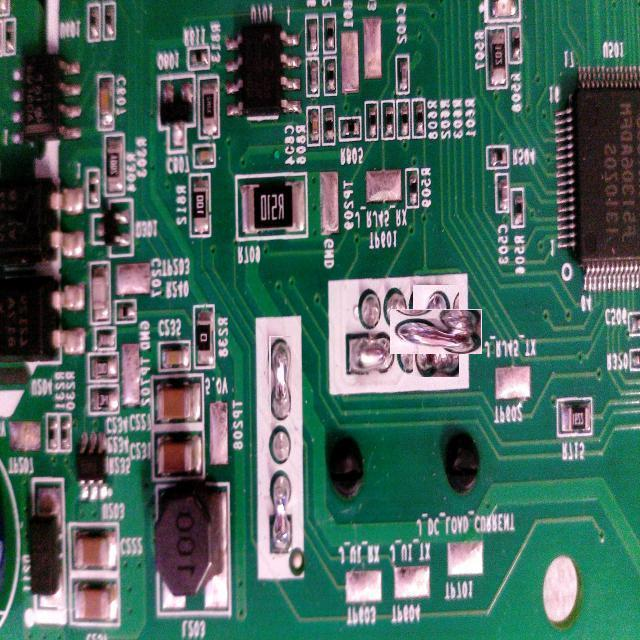Short_circuit: (402, 297, 471, 366), (345, 332, 393, 379), (270, 469, 295, 554), (270, 336, 292, 423)
